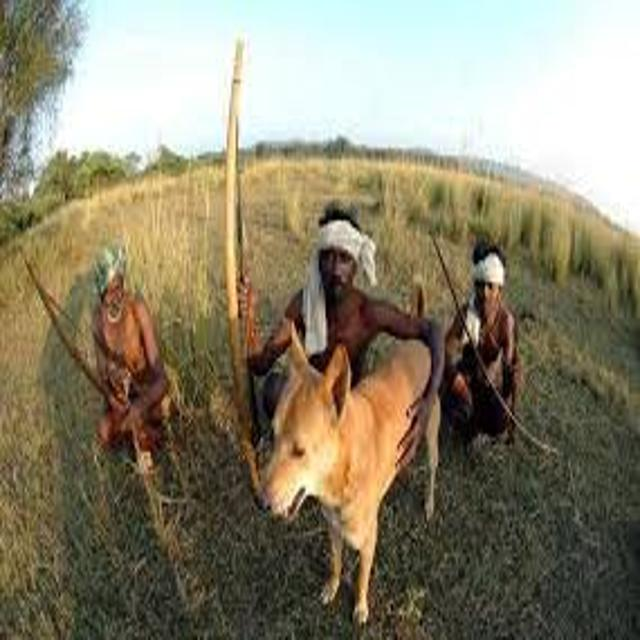poacher: (206, 166, 469, 511), (15, 209, 224, 528), (424, 209, 554, 470)
